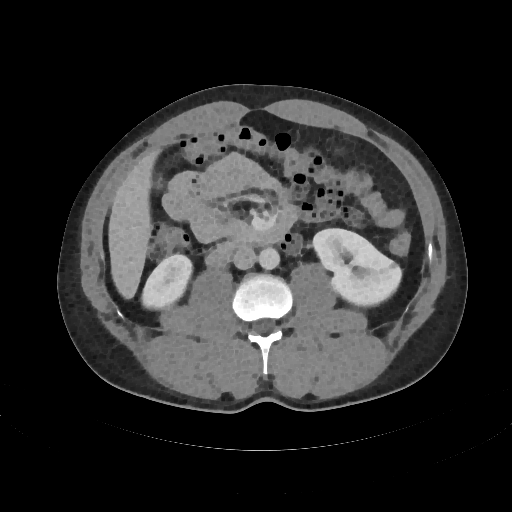Lesion: (387, 258, 401, 275)
